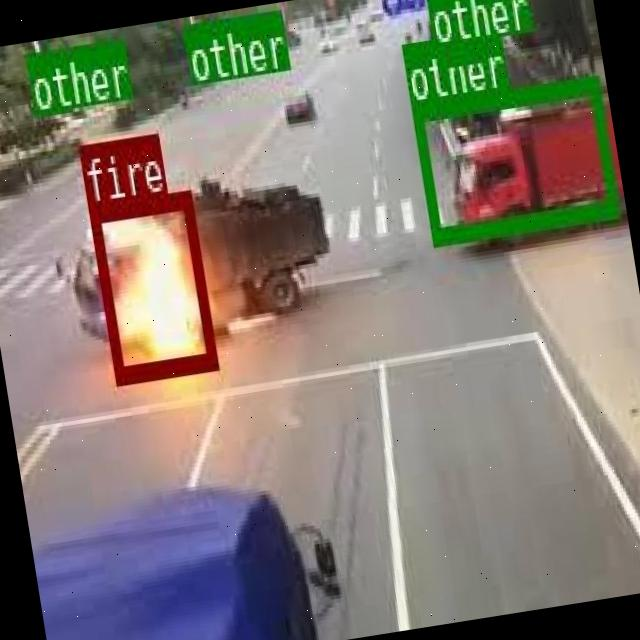fire: (88, 188, 216, 380)
